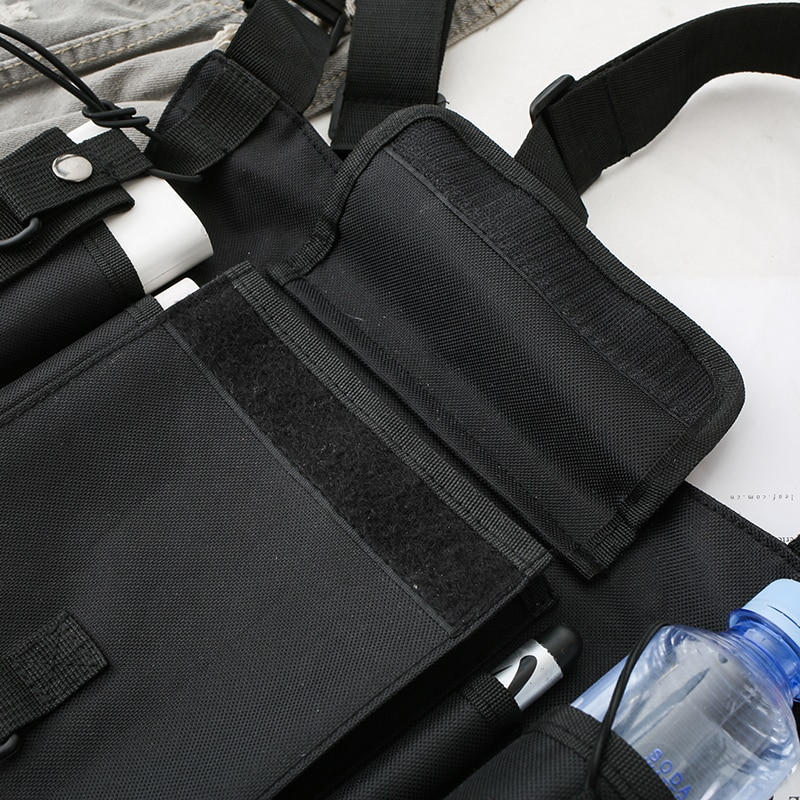Men's Backpacks: (1, 1, 800, 800)
